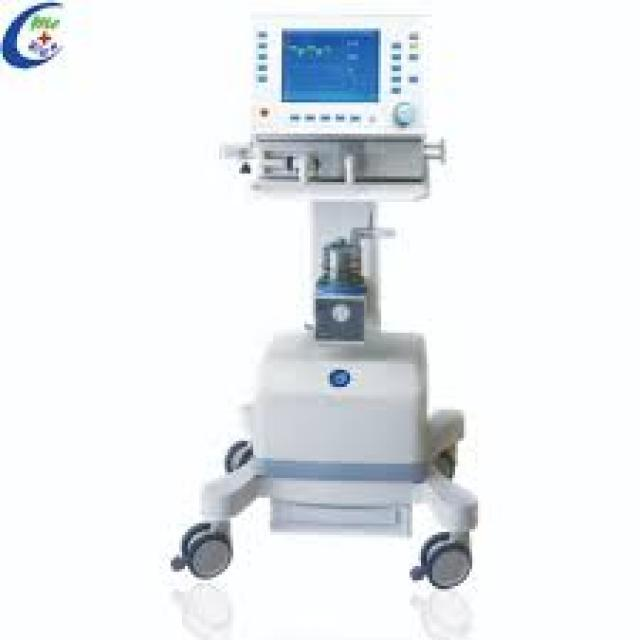ventilator: (197, 17, 518, 608)
